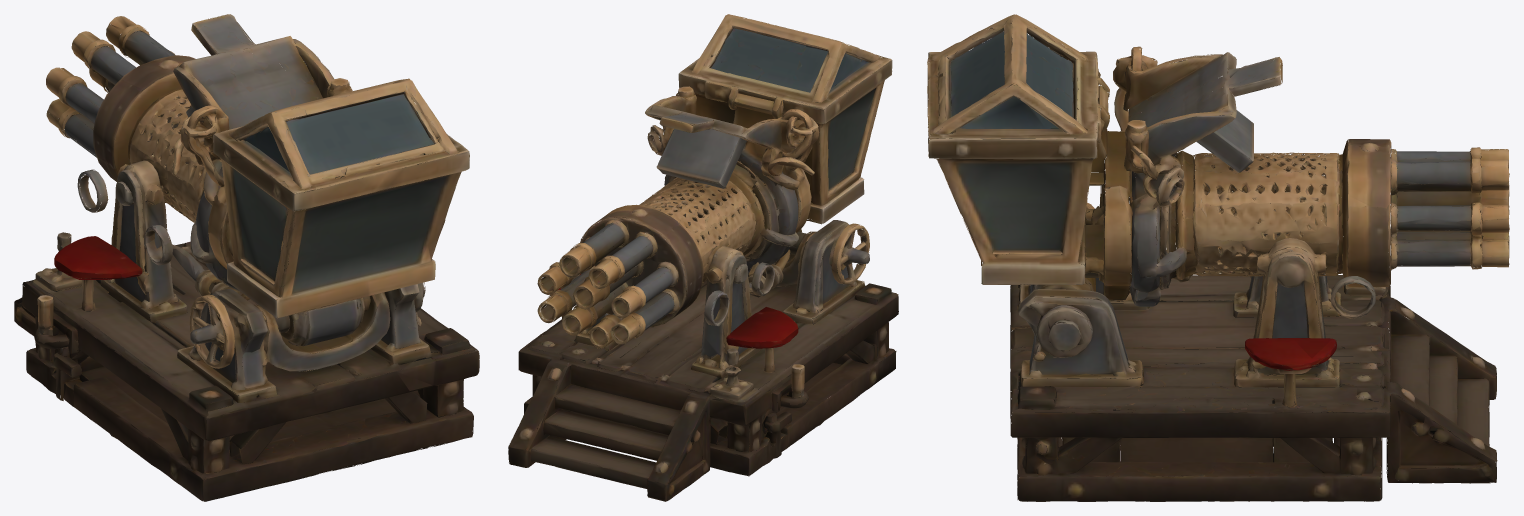
The model's file is cf_iron_mule.glb.
3 renders of one model, left to right at view 1: azimuth 30°, elevation 25°; view 2: azimuth 150°, elevation 25°; view 3: azimuth 270°, elevation 25°, orthographic. The views are drawn at different scales.
Visible parts, largest first — view 1: head, base, gun, spin0; view 2: head, base, gun, spin0; view 3: head, base, gun, spin0.
Part boxes in pixels (x1,y1,x2,y2): head: (22,14,477,418); base: (14,246,479,501); gun: (69,16,249,352); spin0: (46,19,204,208); head: (519,14,898,410); base: (508,296,898,501); gun: (565,127,822,377); spin0: (537,217,721,348); head: (927,14,1396,412); base: (1010,286,1497,501); gun: (1085,109,1508,377); spin0: (1341,145,1509,287).
Bounding box in the file's own units: 2.03 × 2.3 × 3.14.
1 material, 1 textured.
